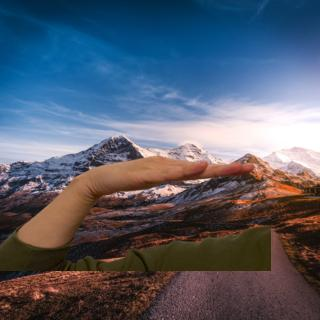WAIT: (80, 151, 256, 199)
